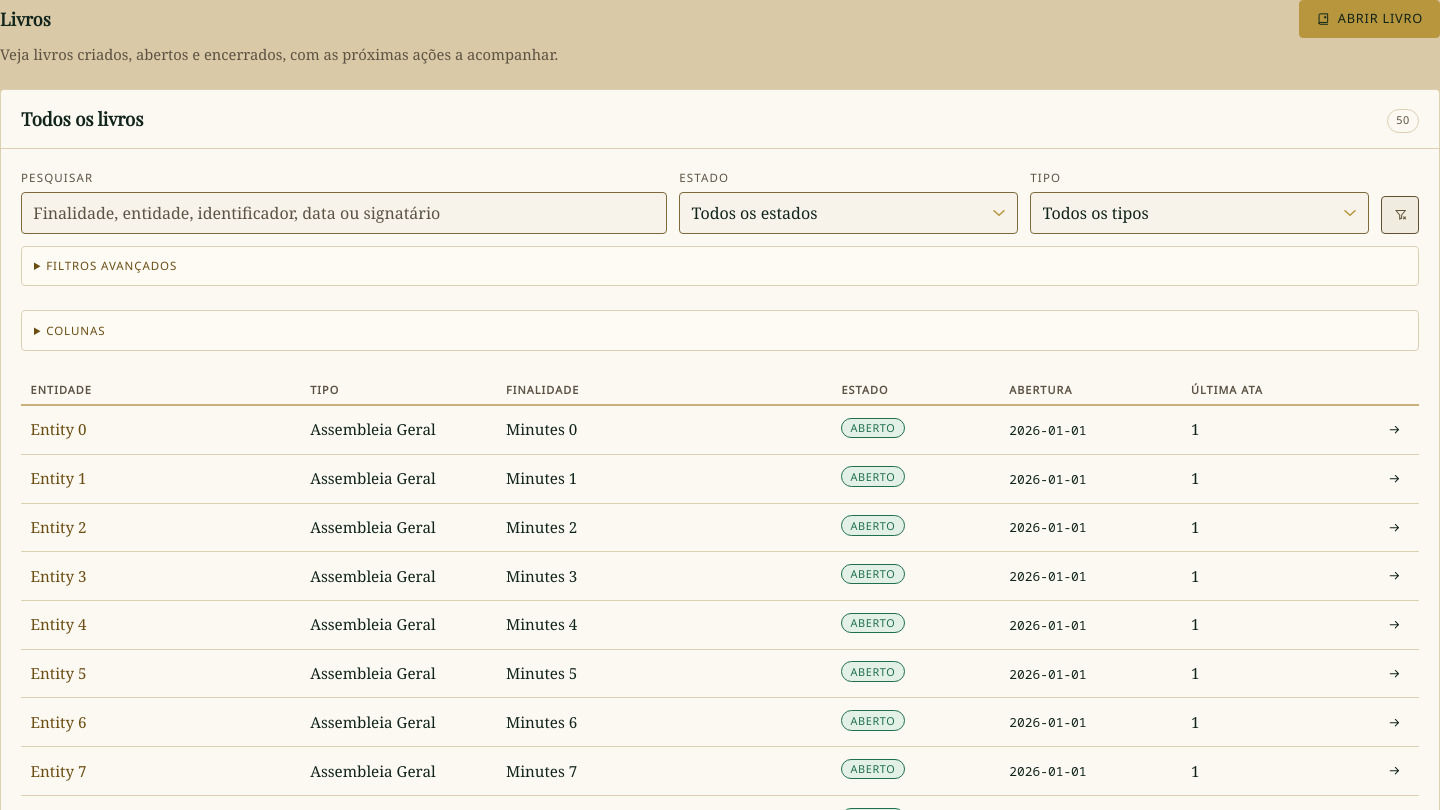
Scenario: bounded registry pages › applies a server filter before taking the first 50-row page
Expected: the text "Minutes 0" is shown, [506, 419, 577, 439]
Type "Minutes 74" into the search field labelled "Pesquisar" at coordinates (344, 213), box [21, 192, 667, 234]
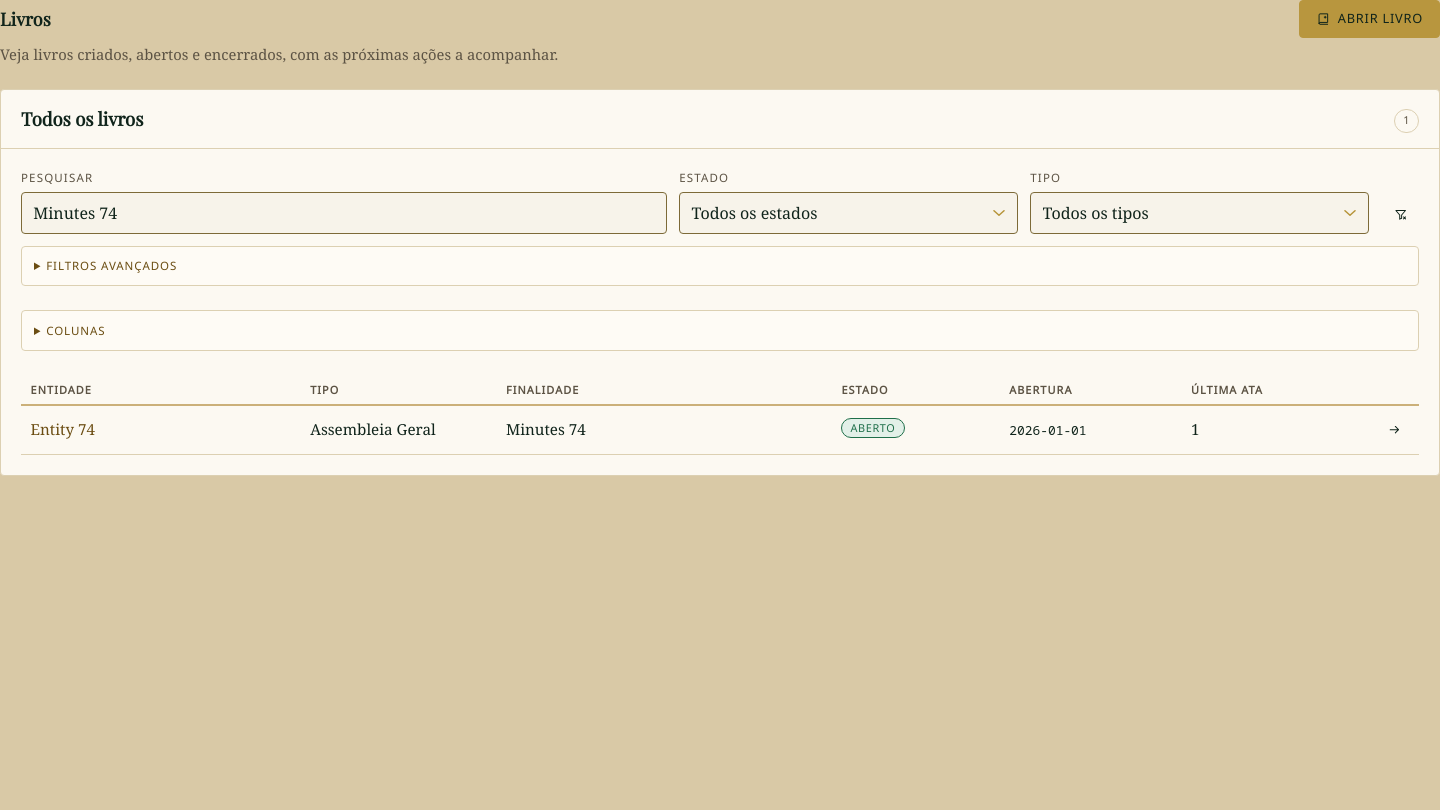
Expected: the text "Minutes 74" is shown, [506, 419, 586, 439]
Expected: the text "Minutes 0" is gone
